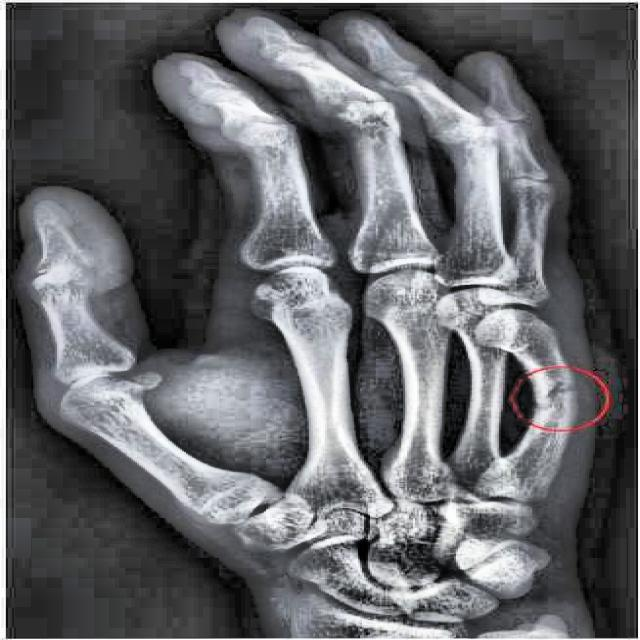fracture: (530, 381, 582, 412)
